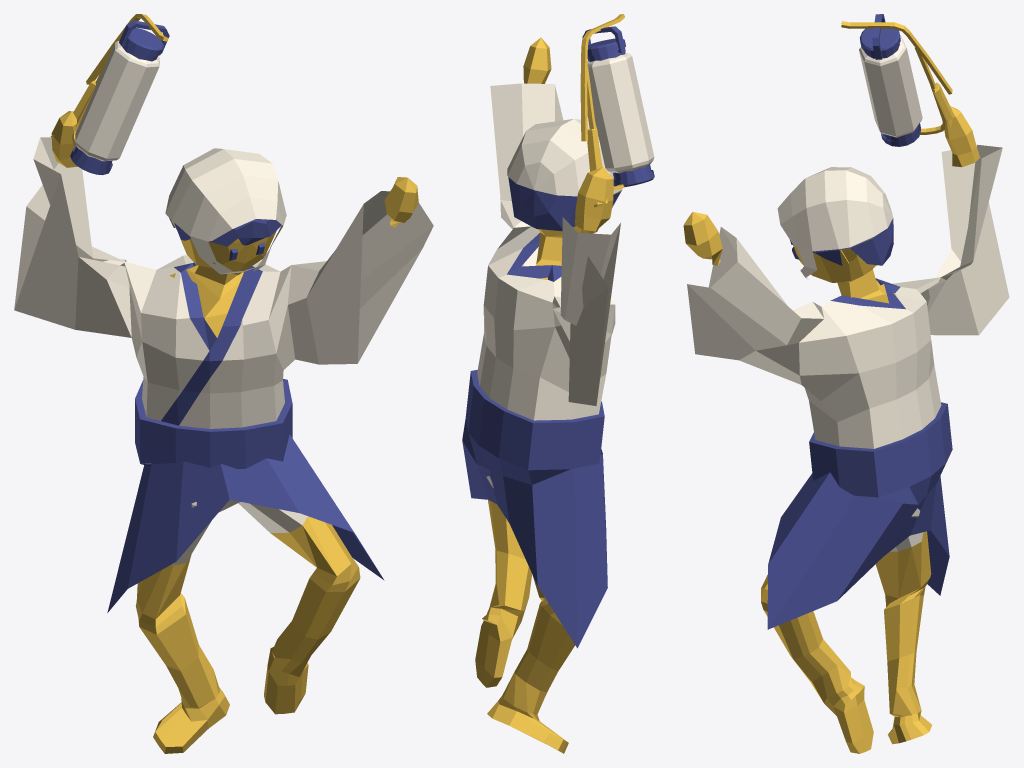
Rendered from 120_阿波踊り005.glb.
3 renders of one model, left to right at view 1: azimuth 30°, elevation 25°; view 2: azimuth 150°, elevation 25°; view 3: azimuth 270°, elevation 25°, orthographic. The views are drawn at different scales.
Parts seen in each view (by area): view 1: 立方体079_3, 立方体079, 立方体079_1, 立方体079_2, 立方体079_4; view 2: 立方体079_3, 立方体079, 立方体079_1, 立方体079_2, 立方体079_4; view 3: 立方体079_3, 立方体079, 立方体079_1, 立方体079_2, 立方体079_4.
Boxes of the visible parts, box(x1,y1,x2,y2) form: 立方体079_3: box(14, 41, 433, 565); 立方体079: box(107, 218, 384, 612); 立方体079_1: box(50, 14, 360, 753); 立方体079_2: box(51, 111, 418, 227); 立方体079_4: box(70, 20, 169, 175); 立方体079_3: box(477, 52, 654, 487); 立方体079: box(462, 177, 620, 648); 立方体079_1: box(475, 14, 625, 753); 立方体079_2: box(523, 37, 613, 231); 立方体079_4: box(582, 26, 654, 186); 立方体079_3: box(687, 35, 1009, 551); 立方体079: box(767, 218, 952, 629); 立方体079_1: box(761, 21, 952, 753); 立方体079_2: box(683, 106, 979, 265); 立方体079_4: box(860, 14, 920, 146).
Size of the model in its own units: 0.9338 by 2.57 by 1.08.
